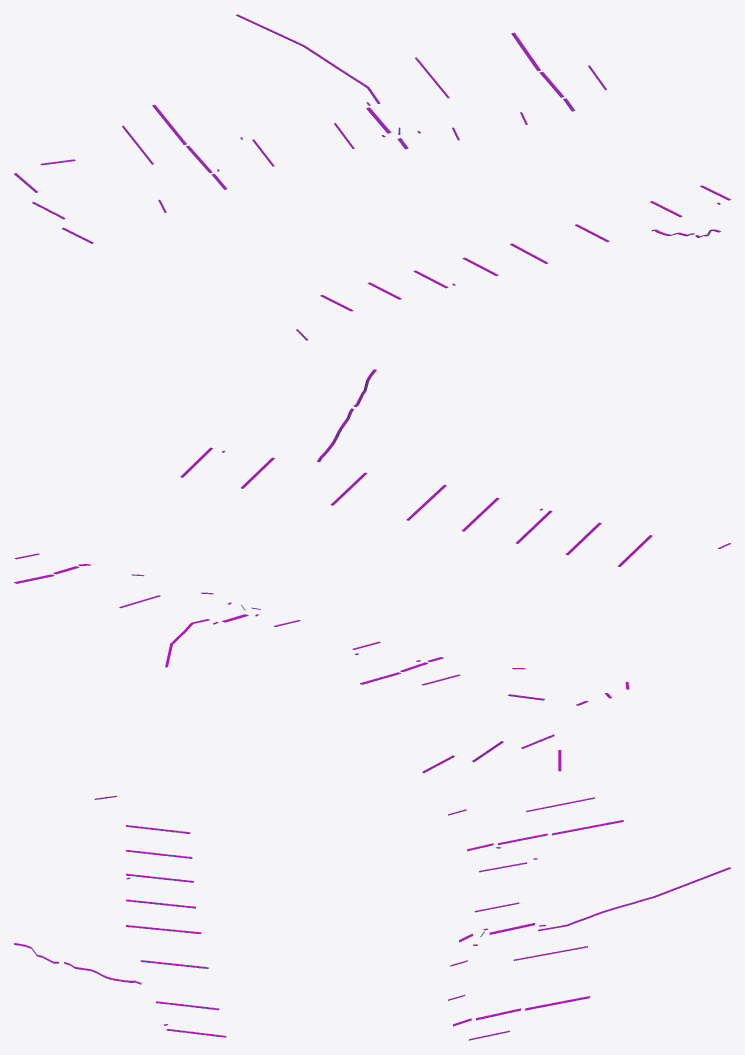
Rendered from steps.fbx.
3 renders of one model, top to bottom at view 1: azimuth 30°, elevation 25°; view 2: azimuth 150°, elevation 25°; view 3: azimuth 270°, elevation 25°, orthographic. The views are drawn at different scales.
Visible parts, largest first — view 1: steps; view 2: steps; view 3: steps.
Part boxes in pixels (x1,y1,x2,y2): steps: (14,14,730,340); steps: (14,369,730,705); steps: (14,734,730,1040).
Bounding box in the file's own units: 504 × 43.9 × 530.
